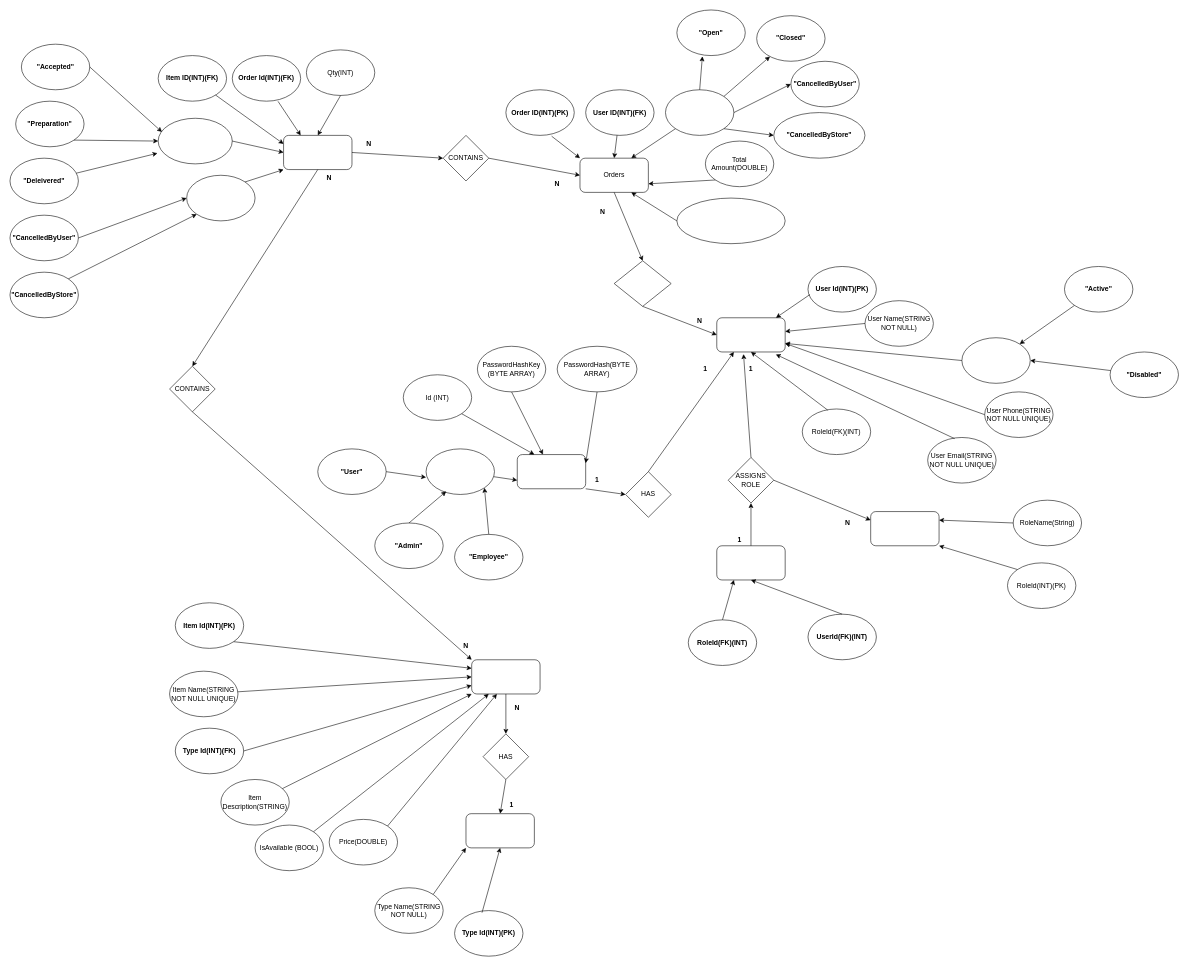
The diagram is 1188 pixels wide and 966 high, and some of its shapes have lost their labels. Here are the shapes that lost their labels. From the top down, the centre of each, then its label:
pixel 699 112: Order Status(String)
pixel 195 141: Item Status (STRING)
pixel 317 152: Order Items
pixel 220 198: CancellationStatus
pixel 730 221: OrderedOn(DATETIME)
pixel 642 283: ORDEREDBY
pixel 750 334: Users
pixel 995 360: State
pixel 460 471: Type
pixel 551 471: Authentication
pixel 904 528: ROLES
pixel 750 562: RoleMapping
pixel 505 676: Items
pixel 499 830: Item Type
